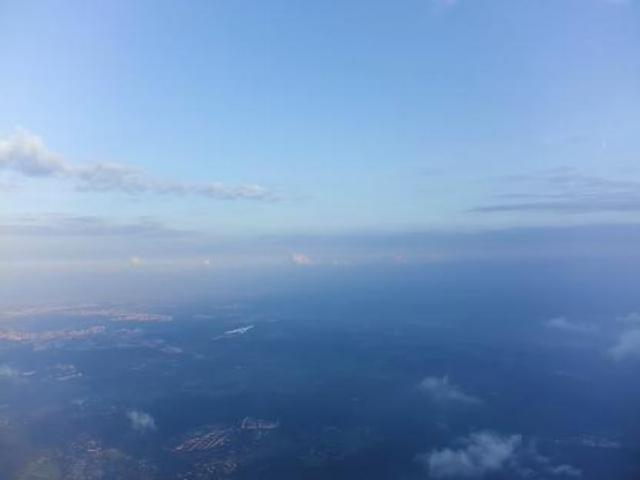uav: (224, 319, 256, 338)
